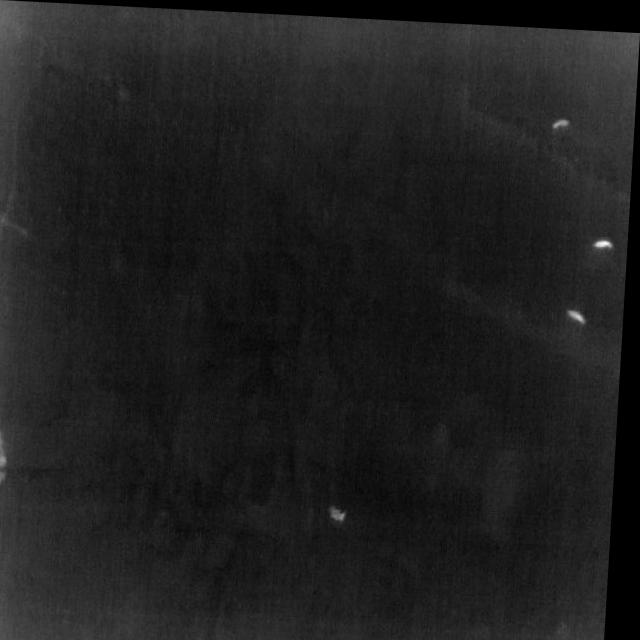deer: (569, 303, 590, 318), (594, 231, 617, 244), (334, 502, 352, 518), (553, 112, 572, 124)
